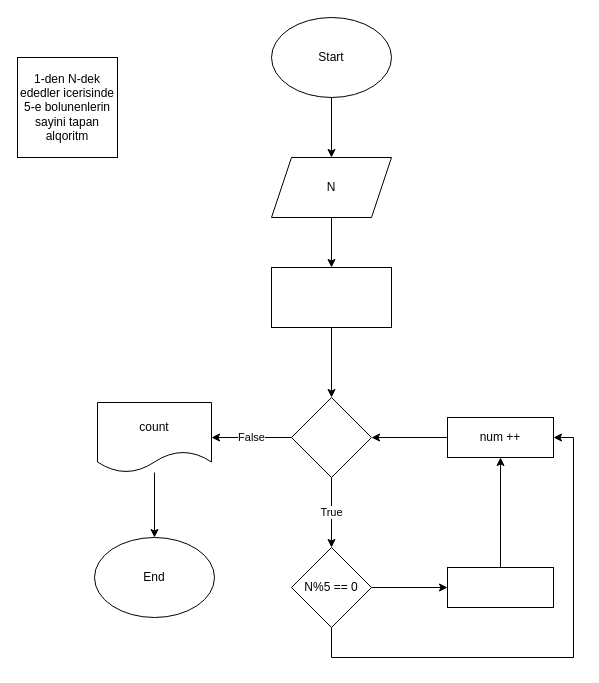
The diagram is 599 pixels wide and 683 high, and some of its shapes have lost their labels. Each missing label, with the centre of its shape:
"count ++" belongs at [500,587].
"num < N" belongs at [331,437].
"num = 1 count = 0" belongs at [331,297].
